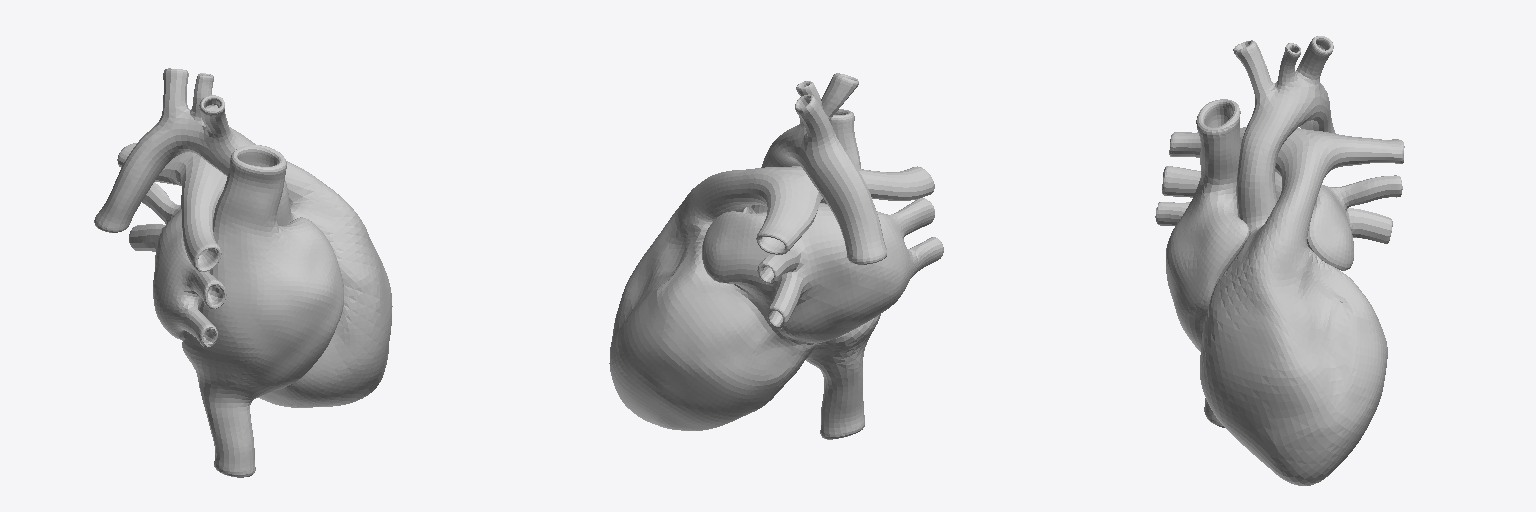
3 views of the same model, side by side, from view 1: azimuth 30°, elevation 25°; view 2: azimuth 150°, elevation 25°; view 3: azimuth 270°, elevation 25° (orthographic).
Visible parts, largest first — view 1: HEART_PRO; view 2: HEART_PRO; view 3: HEART_PRO.
Part boxes in pixels (bbox=[...]): HEART_PRO: bbox=[94, 68, 392, 477]; HEART_PRO: bbox=[609, 73, 943, 439]; HEART_PRO: bbox=[1155, 36, 1404, 485].
Bounding box in the file's own units: 623 × 816 × 488.